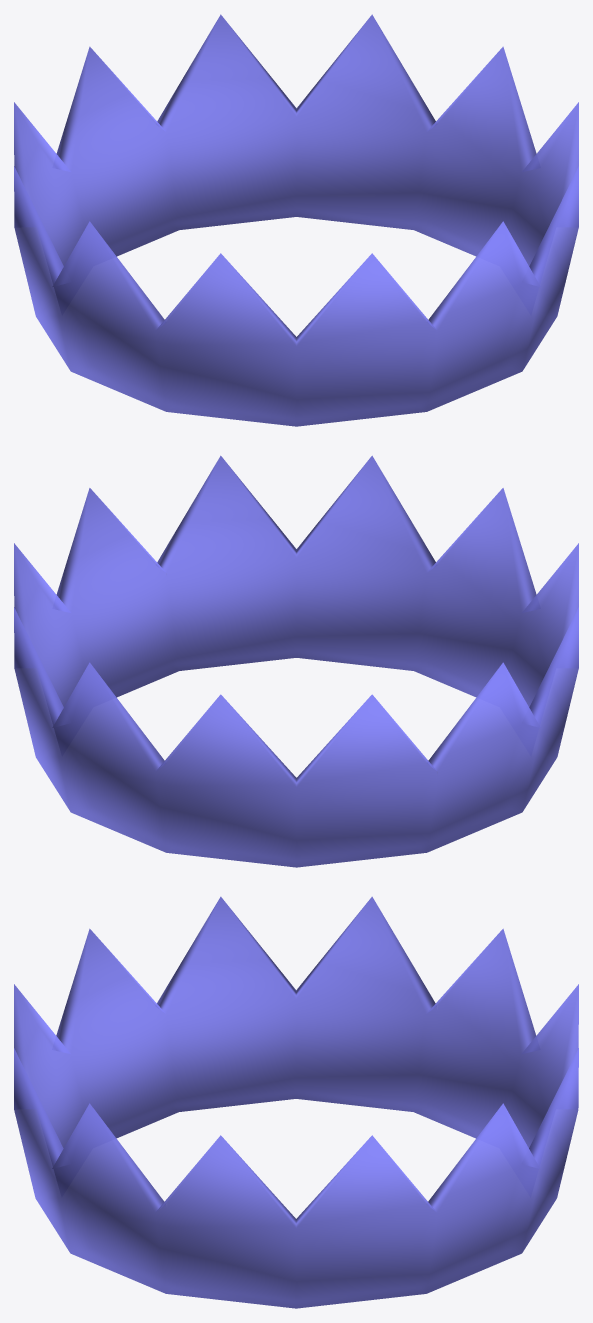
File: crown.obj
3 views of the same model, one above another, from view 1: azimuth 30°, elevation 25°; view 2: azimuth 150°, elevation 25°; view 3: azimuth 270°, elevation 25° (orthographic).
Parts seen in each view (by area): view 1: Cylinder; view 2: Cylinder; view 3: Cylinder.
Boxes of the visible parts, <box> form: Cylinder: <box>14,14,578,426</box>; Cylinder: <box>14,455,578,867</box>; Cylinder: <box>14,896,578,1308</box>.
Bounding box in the file's own units: 0.7007 × 0.25 × 0.7007.
